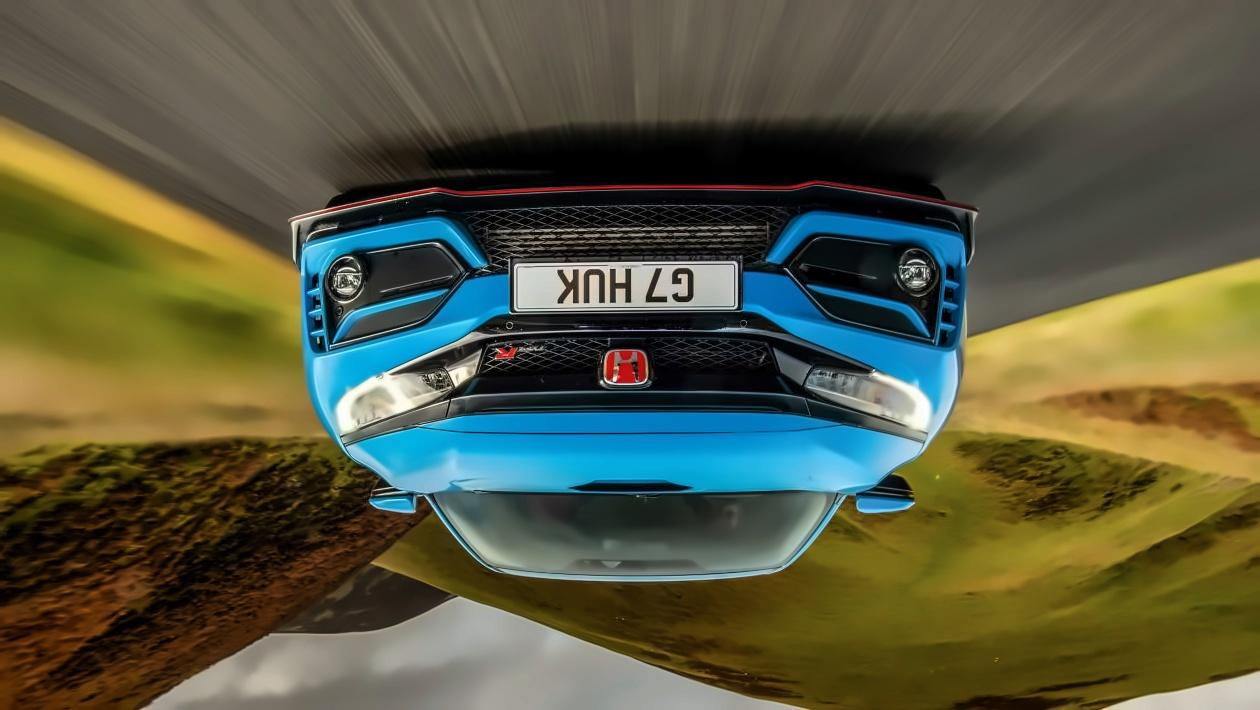Car hood: (339, 416, 922, 495)
Front bumper: (289, 177, 983, 376)
Headlight - -L-: (334, 343, 488, 449)
Headlight - -R-: (800, 353, 934, 452)
Side mirror - -L-: (366, 486, 425, 517)
Side mirror - -R-: (845, 473, 915, 519)
